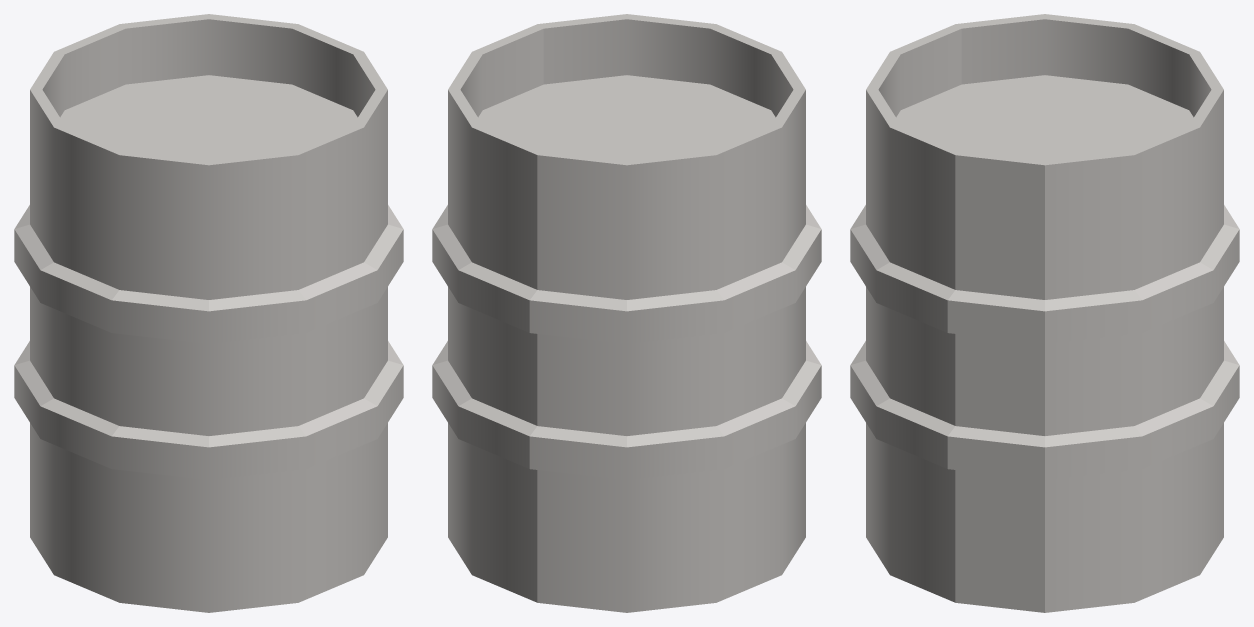
The model's file is SM_barrel_gas.fbx.
The picture shows the model from 3 angles, left to right: view 1: azimuth 30°, elevation 25°; view 2: azimuth 150°, elevation 25°; view 3: azimuth 270°, elevation 25°; orthographic projection.
Parts seen in each view (by area): view 1: Cylinder016; view 2: Cylinder016; view 3: Cylinder016.
Boxes of the visible parts, x1,y1,x2,y2 form: Cylinder016: (14,14,403,612); Cylinder016: (432,14,821,612); Cylinder016: (850,14,1239,612).
Size of the model in its own units: 22.21 by 22.21 by 28.18.
